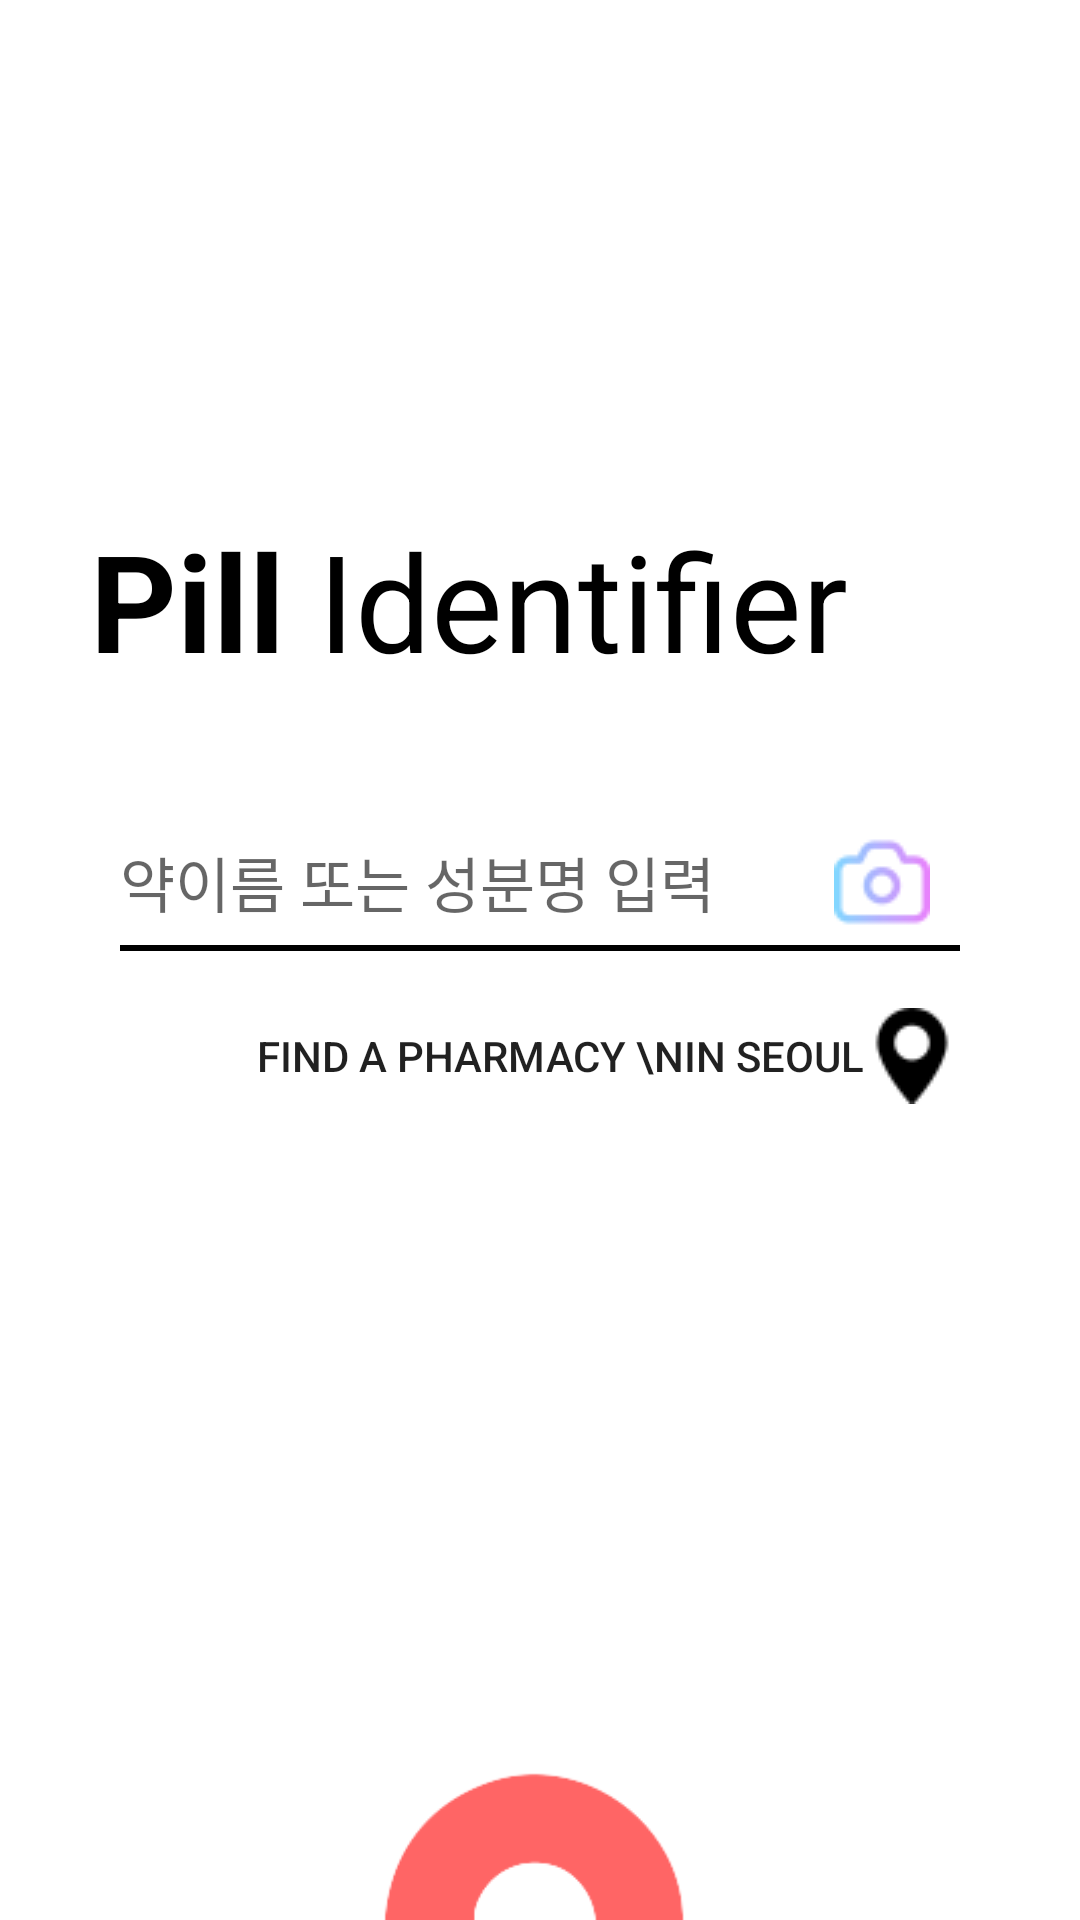

Point at icon controls on the screen. Image size 1080 x 1920, points as point (x, y).
camera: point (882, 882)
semicircle: point (534, 1847)
